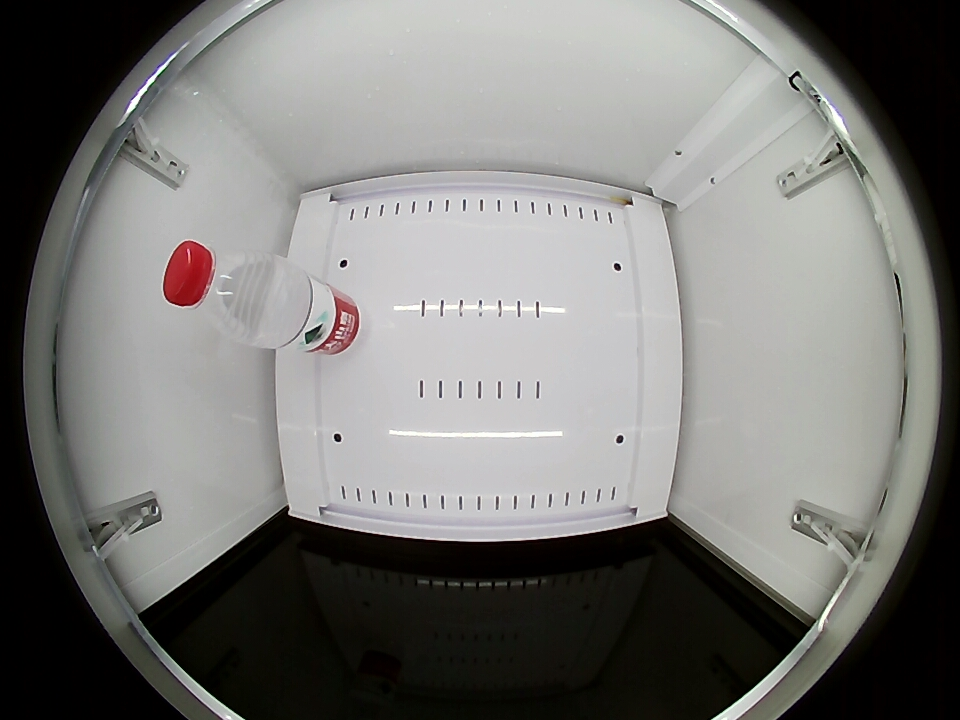nongfushanquan: (163, 240, 280, 342)
